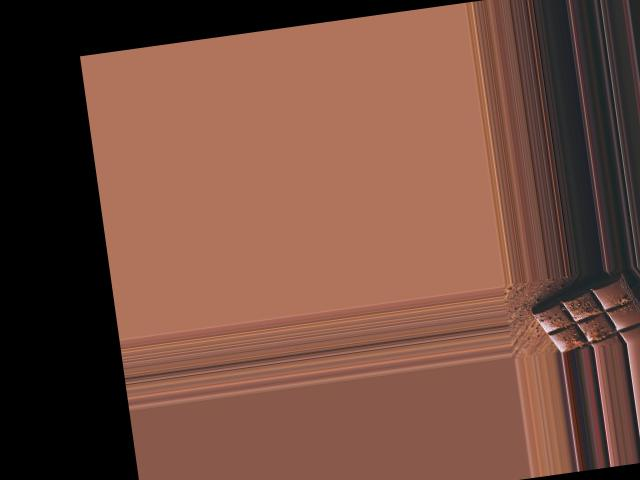chocolate: (523, 271, 640, 355)
